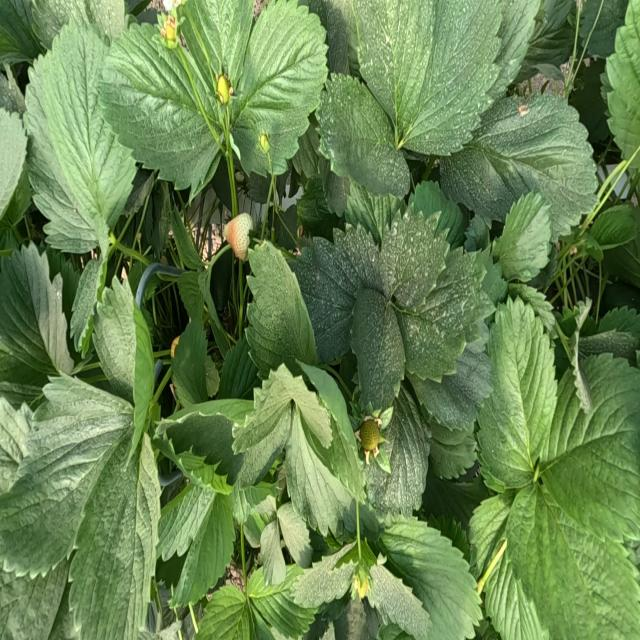Flowers: (163, 1, 179, 11)
Leaves: (3, 376, 133, 576), (25, 26, 135, 241), (496, 478, 639, 638), (439, 95, 597, 239), (99, 25, 219, 190), (69, 437, 159, 639), (546, 355, 639, 541), (231, 2, 327, 175), (405, 0, 502, 156), (480, 297, 556, 488), (377, 515, 480, 638), (290, 226, 382, 363), (395, 248, 485, 380), (317, 73, 409, 197), (354, 1, 436, 137), (0, 244, 72, 377), (245, 242, 315, 368), (233, 364, 332, 452), (286, 409, 352, 536), (366, 389, 430, 515), (377, 206, 449, 314), (180, 1, 253, 106), (303, 381, 365, 503), (412, 336, 491, 430), (174, 492, 235, 606), (352, 289, 403, 412), (603, 2, 639, 158), (168, 414, 243, 484), (368, 555, 431, 638), (1, 560, 67, 639), (492, 192, 551, 280), (93, 278, 135, 400), (489, 0, 540, 100), (247, 565, 315, 638), (158, 484, 216, 560), (170, 316, 216, 407), (295, 541, 357, 608), (305, 0, 355, 73), (195, 584, 253, 639), (70, 258, 101, 354), (31, 1, 95, 47), (346, 183, 400, 237), (429, 418, 476, 479), (1, 109, 27, 215), (581, 0, 628, 58), (1, 0, 40, 67), (217, 338, 259, 399), (176, 452, 231, 495), (277, 502, 311, 567), (588, 204, 638, 248), (259, 520, 285, 584), (334, 596, 368, 639), (178, 270, 203, 326)
Strawberries: (225, 214, 253, 259), (360, 420, 381, 451), (353, 571, 370, 601), (217, 75, 230, 103), (163, 21, 176, 43)
